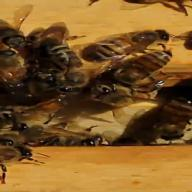Bee: (79, 25, 177, 72)
